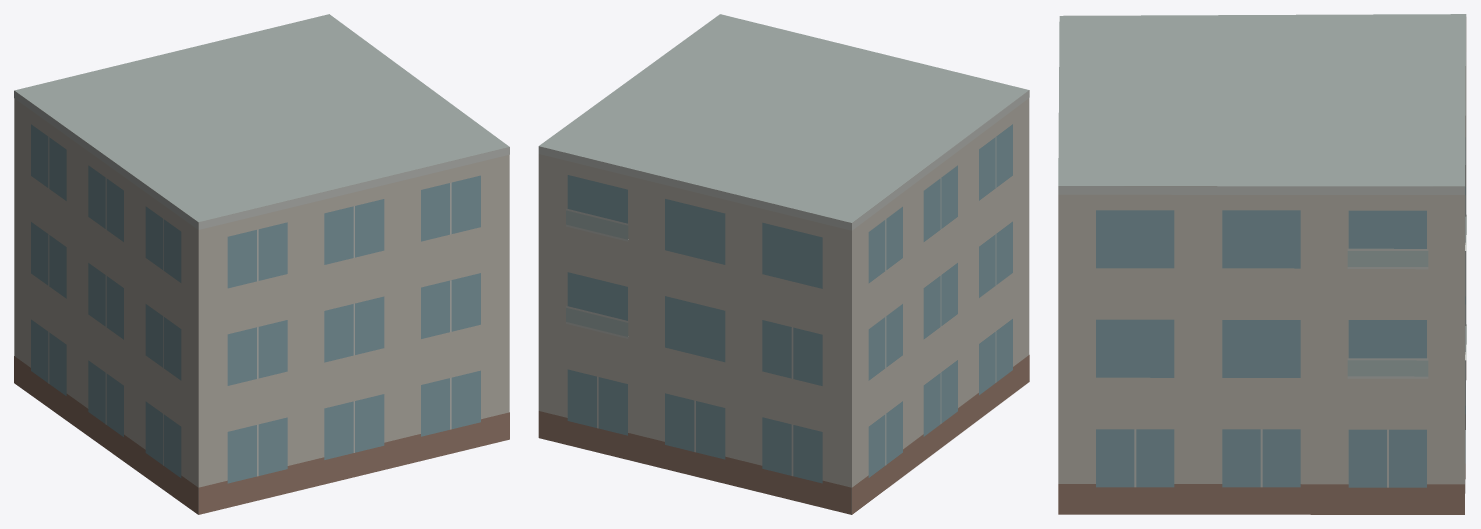
The model's file is survey-upis-32819887.glb.
3 views of the same model, side by side, from view 1: azimuth 30°, elevation 25°; view 2: azimuth 150°, elevation 25°; view 3: azimuth 270°, elevation 25° (orthographic). The views are drawn at different scales.
Visible parts, largest first — view 1: survey-upis-32819887.tmp; view 2: survey-upis-32819887.tmp; view 3: survey-upis-32819887.tmp.
Boxes of the visible parts, x1=… form: survey-upis-32819887.tmp: x1=14, y1=14, x2=509, y2=514; survey-upis-32819887.tmp: x1=538, y1=14, x2=1029, y2=514; survey-upis-32819887.tmp: x1=1058, y1=14, x2=1466, y2=514.
Size of the model in its own units: 10.34 by 9.15 by 10.32.
